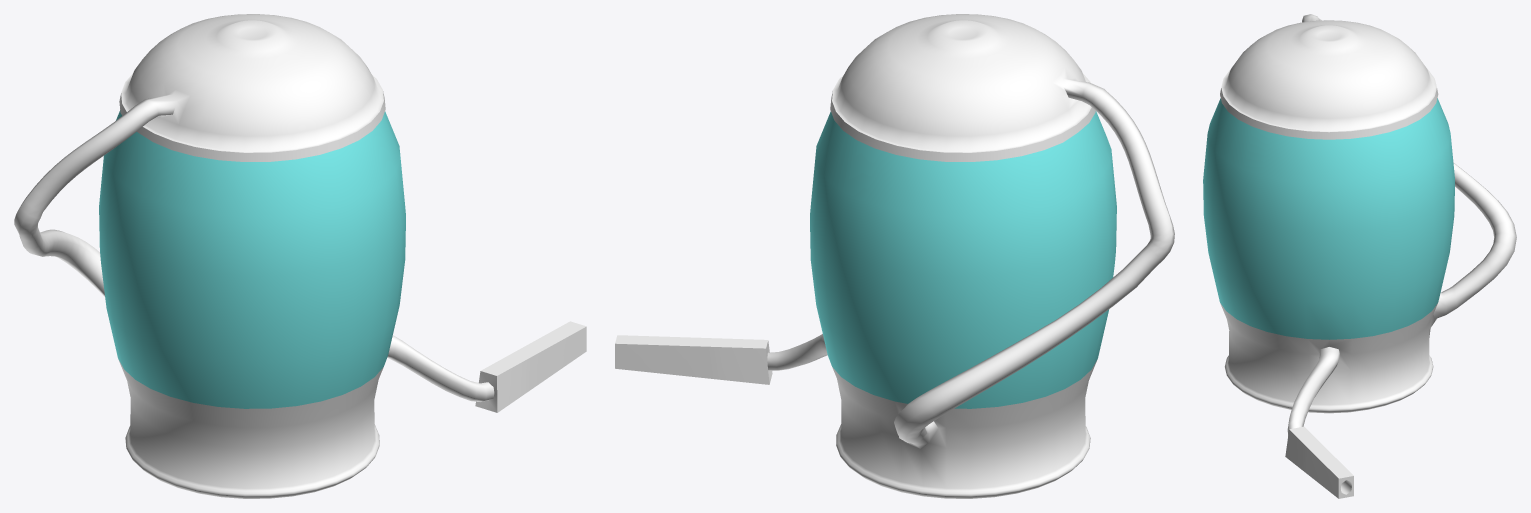
File: Collector Gun Menu Lvl3.fbx
3 renders of one model, left to right at view 1: azimuth 30°, elevation 25°; view 2: azimuth 150°, elevation 25°; view 3: azimuth 270°, elevation 25°, orthographic. The views are drawn at different scales.
Parts seen in each view (by area): view 1: CollectorGun_3; view 2: CollectorGun_3; view 3: CollectorGun_3.
Boxes of the visible parts, x1=… form: CollectorGun_3: x1=14, y1=14, x2=586, y2=498; CollectorGun_3: x1=615, y1=14, x2=1174, y2=498; CollectorGun_3: x1=1203, y1=14, x2=1516, y2=498.
Size of the model in its own units: 6032 by 4263 by 3594.
